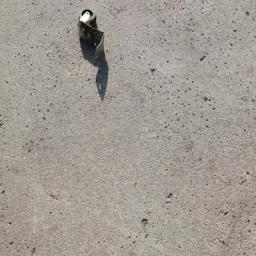FOD: (74, 8, 119, 79)
